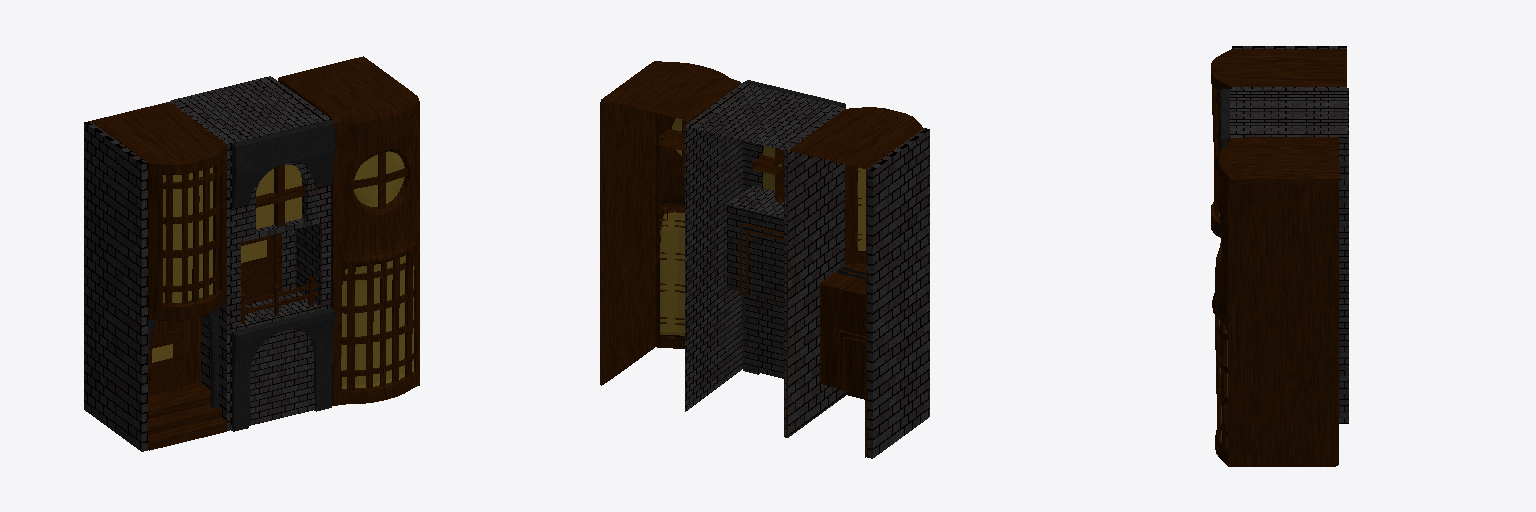
The picture shows the model from 3 angles: view 1: azimuth 30°, elevation 25°; view 2: azimuth 150°, elevation 25°; view 3: azimuth 270°, elevation 25°; orthographic projection.
Parts seen in each view (by area): view 1: sub4.002, sub5.002, part2_.001, door_bake.013, door_bake.012; view 2: sub4.002, sub5.002, part2_.001, door_bake.013; view 3: part2_.001, sub5.002, sub4.002.
Boxes of the visible parts, x1=… form: sub4.002: x1=84, y1=101, x2=229, y2=451; sub5.002: x1=171, y1=76, x2=334, y2=431; part2_.001: x1=278, y1=56, x2=419, y2=405; door_bake.013: x1=241, y1=233, x2=281, y2=299; door_bake.012: x1=148, y1=329, x2=182, y2=395; sub4.002: x1=784, y1=107, x2=929, y2=458; sub5.002: x1=685, y1=80, x2=845, y2=436; part2_.001: x1=600, y1=61, x2=740, y2=385; door_bake.013: x1=740, y1=222, x2=783, y2=302; part2_.001: x1=1212, y1=137, x2=1338, y2=466; sub5.002: x1=1221, y1=88, x2=1348, y2=423; sub4.002: x1=1211, y1=46, x2=1346, y2=237.
Bounding box in the file's own units: 16.04 × 16.04 × 6.94.
4 materials, 4 textured.